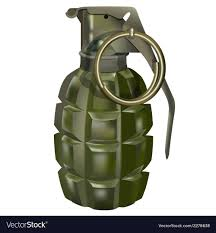bomb: (55, 5, 172, 211)
